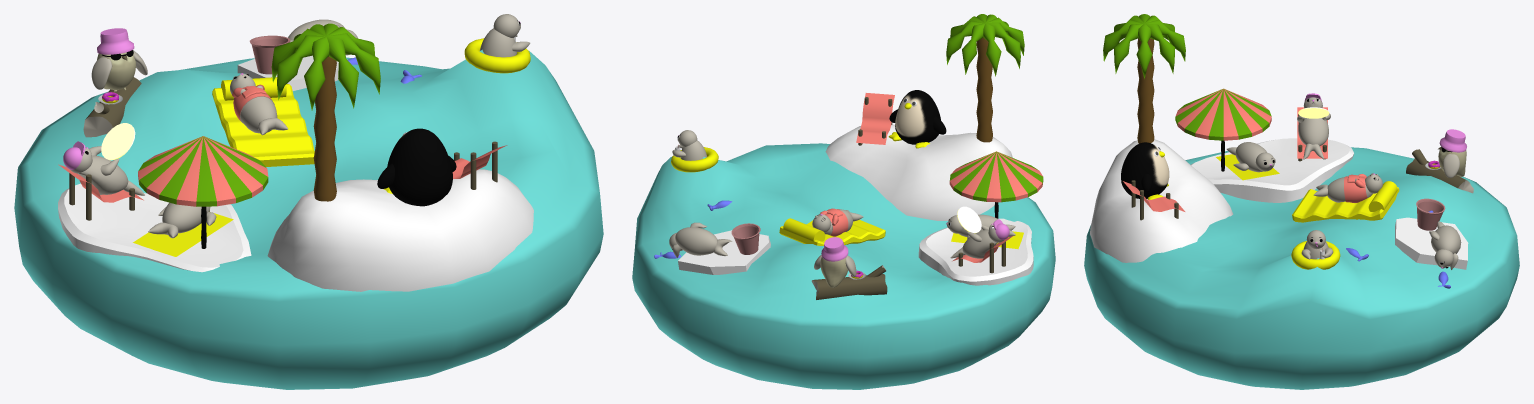
Rendered from island8.glb.
3 views of the same model, side by side, from view 1: azimuth 30°, elevation 25°; view 2: azimuth 150°, elevation 25°; view 3: azimuth 270°, elevation 25° (orthographic). The views are drawn at different scales.
Visible parts, largest first — view 1: water, snowIsland, ice, palm, umbrella, swimming_mattress, pinguin1, polySurface19001, owl, seal, pPlane2, pCylinder11 (+7 smaller); view 2: water, snowIsland, palm, ice, umbrella, pinguin1, iceCube, swimming_mattress, sunLounger1, pCylinder11, polySurface19001, eyeR6 (+7 smaller); view 3: water, snowIsland, ice, palm, umbrella, swimming_mattress, pinguin1, iceCube, seal, polySurface19001, owl, eyeR6 (+7 smaller).
Part boxes in pixels (<box>): water: <box>14,49,603,389</box>; snowIsland: <box>267,169,533,291</box>; ice: <box>58,183,251,272</box>; palm: <box>271,23,380,201</box>; umbrella: <box>138,136,268,248</box>; swimming_mattress: <box>212,77,314,166</box>; pinguin1: <box>377,128,456,206</box>; polySurface19001: <box>464,14,530,73</box>; owl: <box>91,28,147,91</box>; seal: <box>230,73,287,135</box>; pPlane2: <box>133,213,233,256</box>; pCylinder11: <box>83,77,141,137</box>; water: <box>632,143,1055,389</box>; snowIsland: <box>825,124,1012,220</box>; palm: <box>946,14,1024,142</box>; ice: <box>918,218,1033,285</box>; umbrella: <box>949,151,1043,218</box>; pinguin1: <box>888,90,946,148</box>; iceCube: <box>678,230,770,274</box>; swimming_mattress: <box>779,218,885,245</box>; sunLounger1: <box>856,93,894,145</box>; pCylinder11: <box>811,265,887,299</box>; polySurface19001: <box>671,130,718,172</box>; eyeR6: <box>669,222,732,257</box>; water: <box>1084,147,1519,389</box>; snowIsland: <box>1090,139,1233,262</box>; ice: <box>1191,138,1354,202</box>; palm: <box>1103,14,1185,143</box>; umbrella: <box>1175,88,1271,171</box>; swimming_mattress: <box>1292,181,1399,222</box>; pinguin1: <box>1121,142,1169,199</box>; iceCube: <box>1395,217,1468,269</box>; seal: <box>1313,173,1382,202</box>; polySurface19001: <box>1291,230,1340,269</box>; owl: <box>1438,129,1466,177</box>; eyeR6: <box>1429,221,1461,269</box>.
Size of the model in its own units: 0.1077 by 0.0807 by 0.1074.
Materials: 25 (4 with a texture image).
